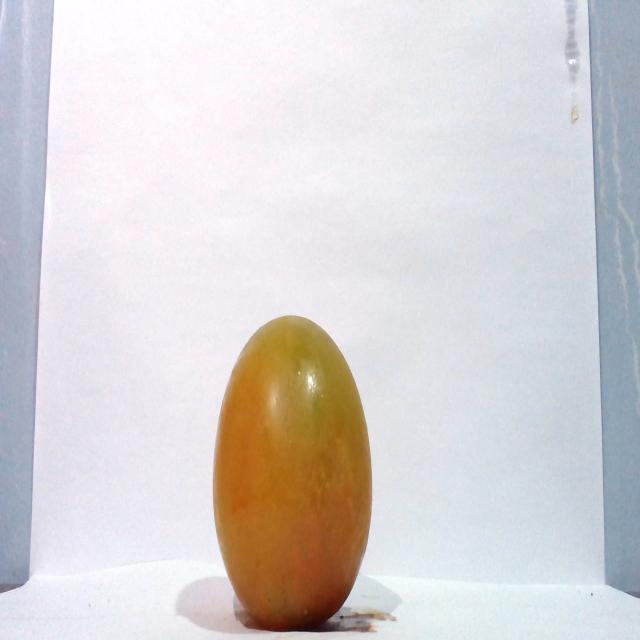Red: (210, 313, 373, 630)
